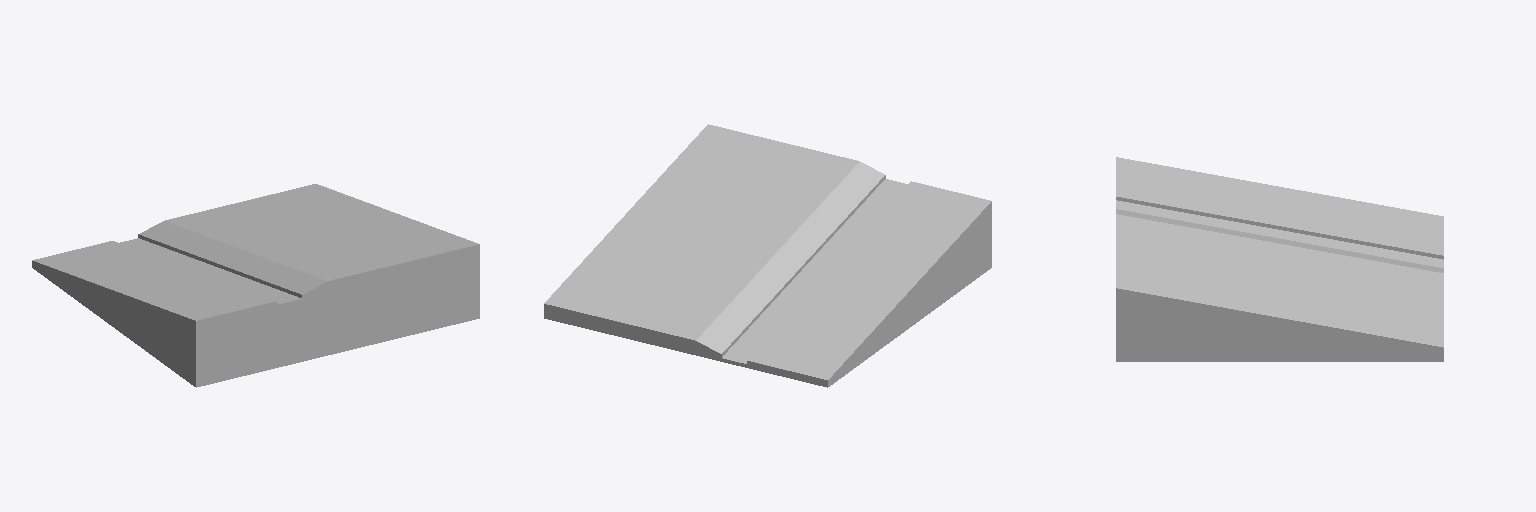
Rendered from road-edge-slope.obj.
The picture shows the model from 3 angles: view 1: azimuth 30°, elevation 25°; view 2: azimuth 150°, elevation 25°; view 3: azimuth 270°, elevation 25°; orthographic projection.
Visible parts, largest first — view 1: road-edge-slope; view 2: road-edge-slope; view 3: road-edge-slope.
Boxes of the visible parts, <box> form: road-edge-slope: <box>32,184,479,387</box>; road-edge-slope: <box>544,124,991,387</box>; road-edge-slope: <box>1116,157,1443,361</box>.
Bounding box in the file's own units: 1 × 0.25 × 1.